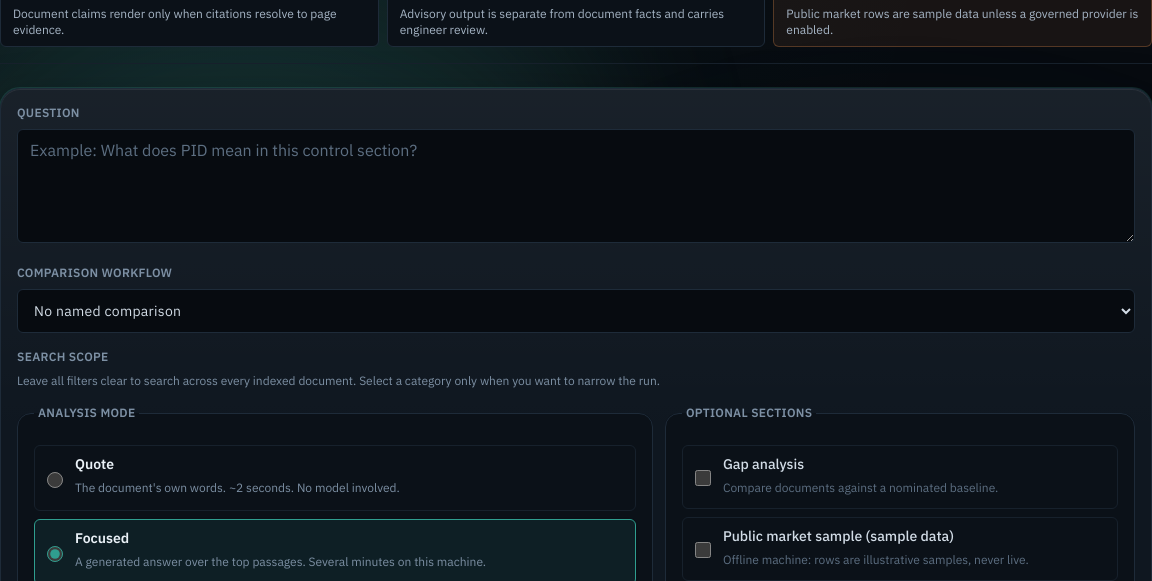
Scenario: Quote mode: no section heading is rendered above empty content › an EMPTY quote result still renders content under the heading, never a bare header
The image size is (1152, 581).
Click the radio button labelled "Quote" at (55, 480), box [47, 458, 63, 502]
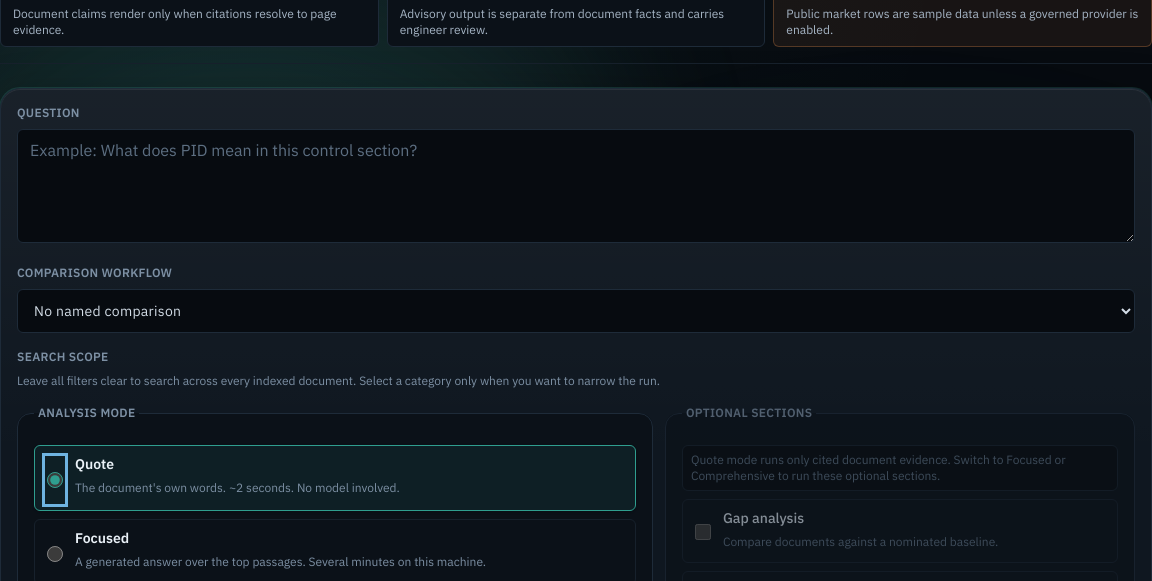
Type "nothing matches this" into the text box labelled "Question" at (576, 186), box [17, 129, 1135, 243]
(page scrolled)
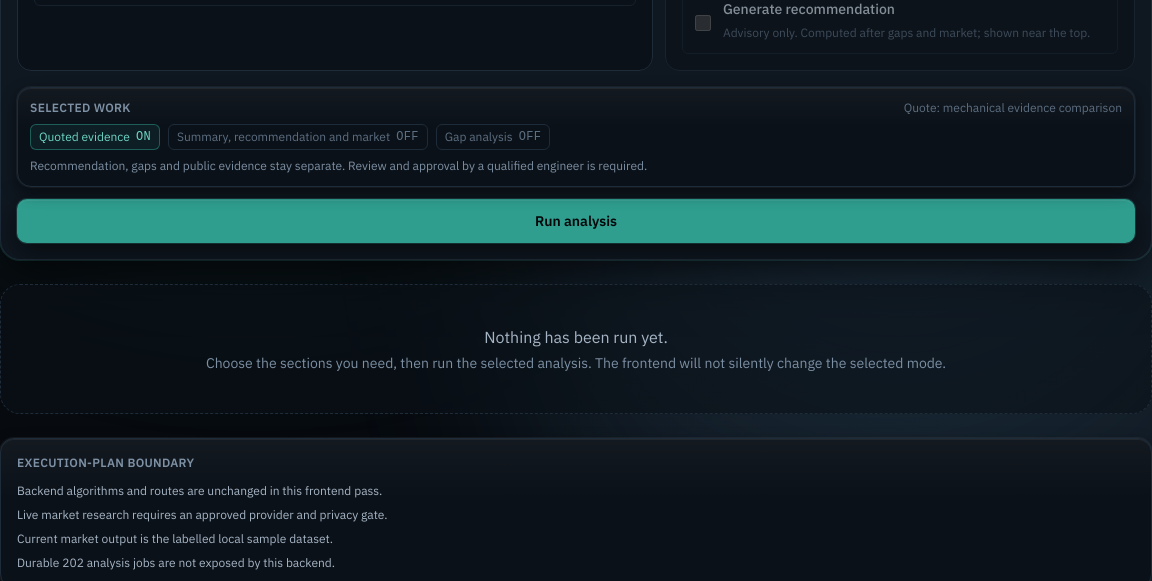
Click the button "Run analysis" at (576, 221), box [17, 199, 1135, 243]
(page scrolled)
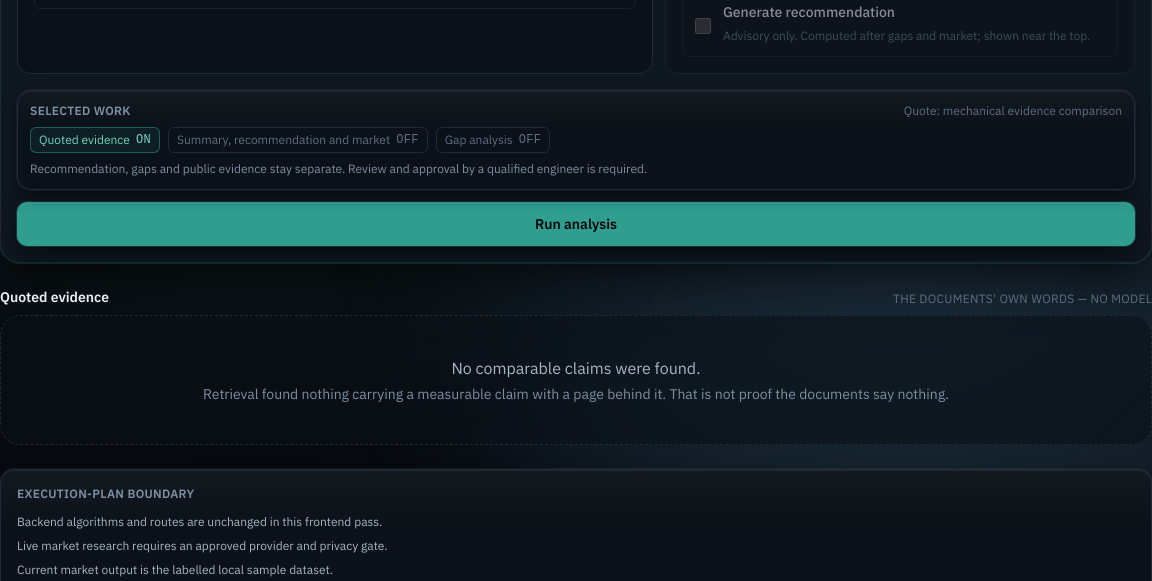
Expected: the text "No comparable claims were found." is shown, [452, 358, 700, 378]
